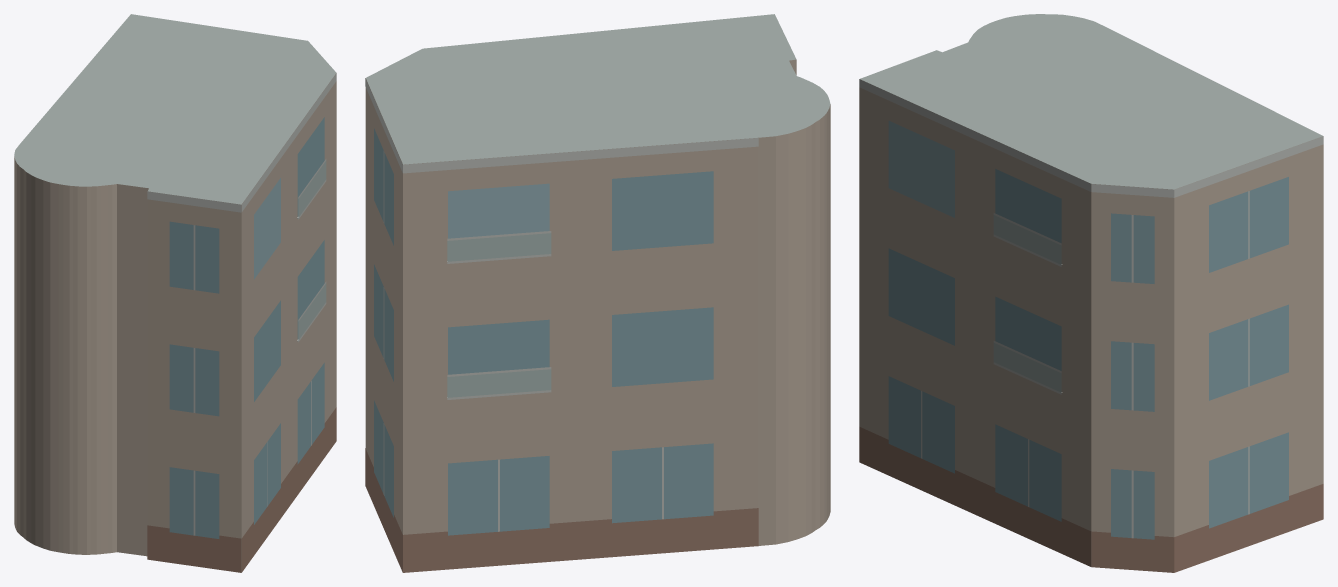
File: survey-upis-32503688.glb
The picture shows the model from 3 angles, left to right: view 1: azimuth 30°, elevation 25°; view 2: azimuth 150°, elevation 25°; view 3: azimuth 270°, elevation 25°; orthographic projection. The views are drawn at different scales.
Parts seen in each view (by area): view 1: survey-upis-32503688.tmp; view 2: survey-upis-32503688.tmp; view 3: survey-upis-32503688.tmp.
Boxes of the visible parts, x1,y1,x2,y2 form: survey-upis-32503688.tmp: (14,14,336,572); survey-upis-32503688.tmp: (365,14,830,572); survey-upis-32503688.tmp: (859,14,1323,572).
Bounding box in the file's own units: 11.01 × 11.2 × 12.3.
